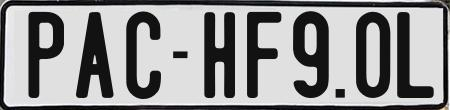0: (355, 9, 393, 96)
9: (292, 8, 334, 101)
A: (74, 9, 118, 98)
C: (125, 9, 160, 97)
F: (247, 12, 286, 99)
H: (203, 12, 239, 99)
L: (397, 12, 438, 100)
P: (26, 11, 62, 99)
